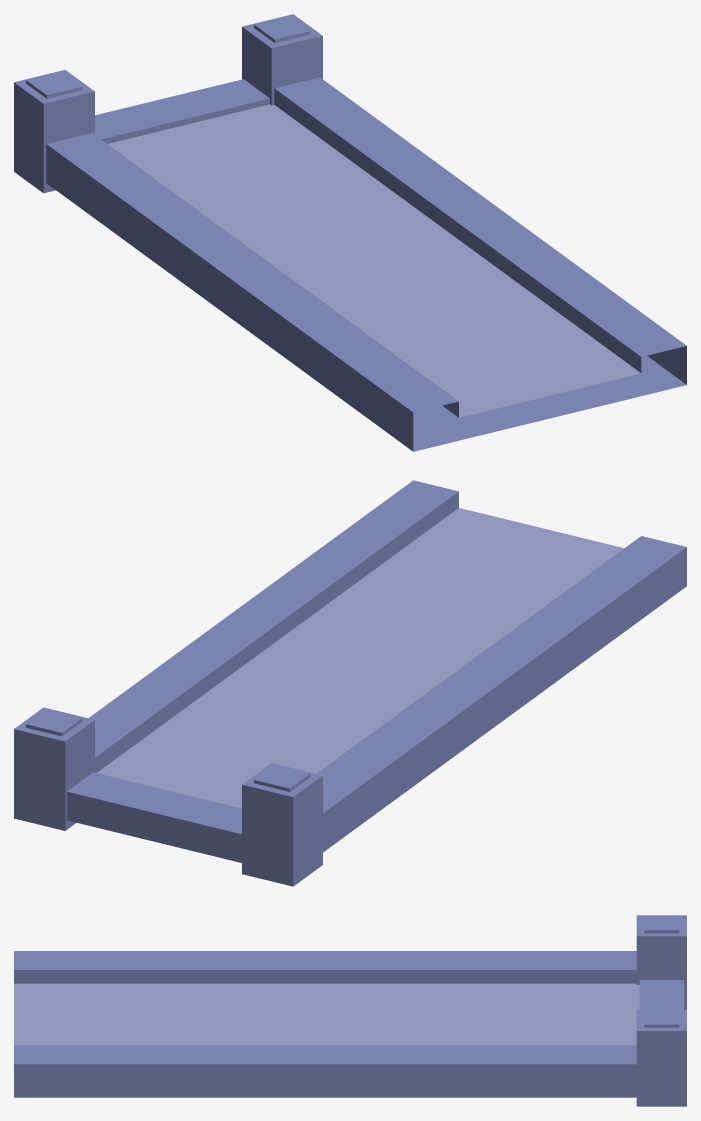
File: bridge_1c_2.fbx
3 views of the same model, one above another, from view 1: azimuth 30°, elevation 25°; view 2: azimuth 150°, elevation 25°; view 3: azimuth 270°, elevation 25° (orthographic). The views are drawn at different scales.
Visible parts, largest first — view 1: bridge_1c_2; view 2: bridge_1c_2; view 3: bridge_1c_2.
Part boxes in pixels (x1=…): bridge_1c_2: x1=14, y1=14, x2=686, y2=451; bridge_1c_2: x1=14, y1=480, x2=686, y2=886; bridge_1c_2: x1=14, y1=915, x2=686, y2=1106.
Size of the model in its own units: 9.8 by 3.12 by 24.1.
